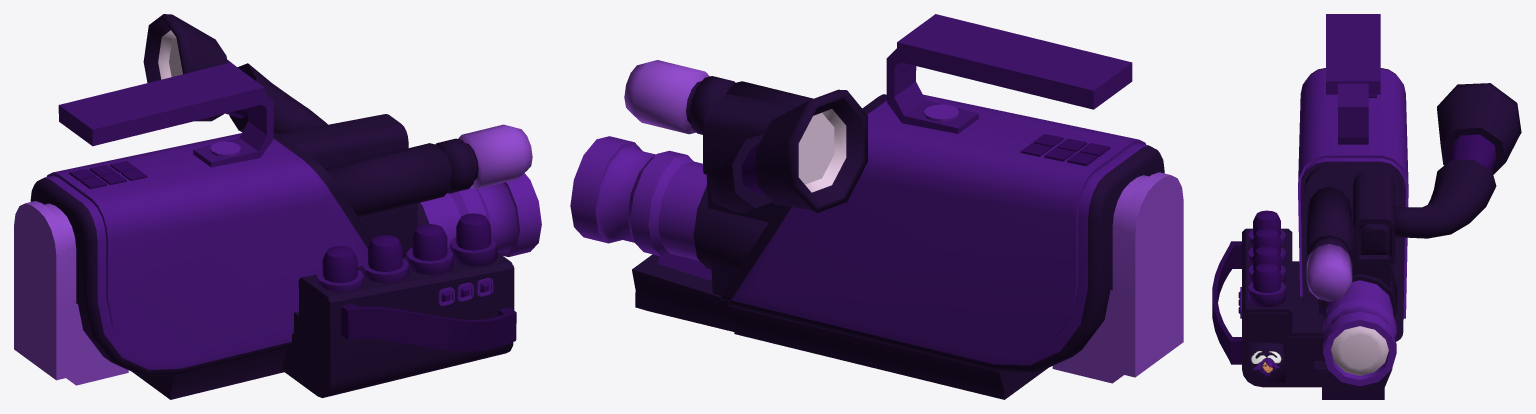
File: Gnuchan-Cam.glb
3 views of the same model, side by side, from view 1: azimuth 30°, elevation 25°; view 2: azimuth 150°, elevation 25°; view 3: azimuth 270°, elevation 25° (orthographic). The views are drawn at different scales.
Parts seen in each view (by area): view 1: Cube; view 2: Cube; view 3: Cube, Cube.003.
Part boxes in pixels (x1=…): Cube: x1=14, y1=14, x2=541, y2=399; Cube: x1=570, y1=14, x2=1183, y2=399; Cube: x1=1212, y1=14, x2=1521, y2=399; Cube.003: x1=1248, y1=341, x2=1285, y2=381.
Size of the model in its own units: 68.41 by 38.26 by 46.58.
Materials: 2 (2 with a texture image).
